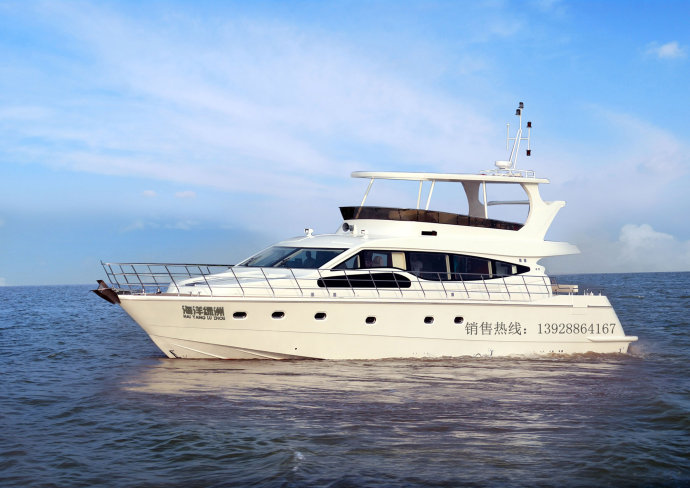yacht: (93, 109, 643, 357)
